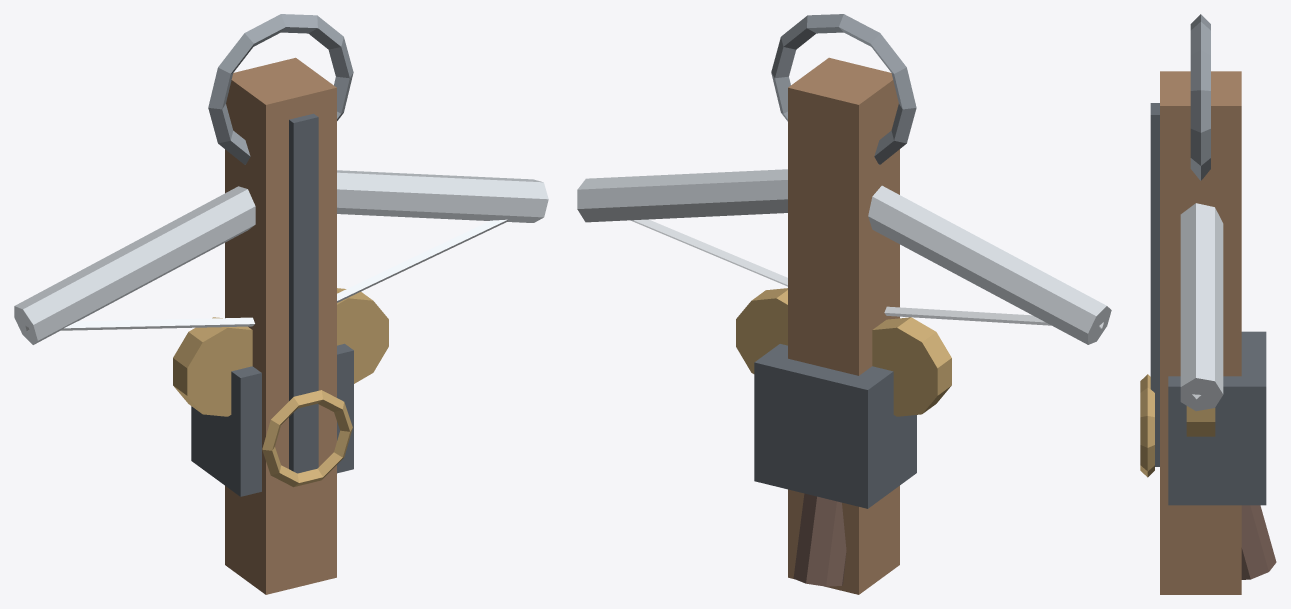
Rendered from two_handed_crossbow.glb.
3 renders of one model, left to right at view 1: azimuth 30°, elevation 25°; view 2: azimuth 150°, elevation 25°; view 3: azimuth 270°, elevation 25°, orthographic.
Visible parts, largest first — view 1: Stock.001, LeftLimb.001, BoltGroove.001, RightLimb.001, TriggerHousing.001, WindingGear_-1, FootStirrup.001, WindingGear_1, Trigger.001, StringLeft.004, StringRight.004; view 2: Stock.001, TriggerHousing.001, LeftLimb.001, RightLimb.001, WindingGear_-1, FootStirrup.001, PistolGrip.001, WindingGear_1, StringLeft.004, StringRight.004; view 3: Stock.001, TriggerHousing.001, RightLimb.001, FootStirrup.001, BoltGroove.001, PistolGrip.001, Trigger.001, WindingGear_1.
Part boxes in pixels (<box>): Stock.001: <box>225,57,336,594</box>; LeftLimb.001: <box>14,186,255,344</box>; BoltGroove.001: <box>289,113,318,473</box>; RightLimb.001: <box>337,170,548,222</box>; TriggerHousing.001: <box>191,343,353,496</box>; WindingGear_-1: <box>173,317,252,416</box>; FootStirrup.001: <box>208,14,353,164</box>; WindingGear_1: <box>337,288,388,383</box>; Trigger.001: <box>262,390,352,487</box>; StringLeft.004: <box>25,317,254,331</box>; StringRight.004: <box>337,219,507,302</box>; Stock.001: <box>788,57,899,594</box>; TriggerHousing.001: <box>754,344,916,508</box>; LeftLimb.001: <box>868,185,1111,344</box>; RightLimb.001: <box>577,169,787,222</box>; WindingGear_-1: <box>872,317,951,416</box>; FootStirrup.001: <box>771,14,916,164</box>; PistolGrip.001: <box>793,493,846,586</box>; WindingGear_1: <box>736,288,787,373</box>; StringLeft.004: <box>884,306,1103,328</box>; StringRight.004: <box>630,219,787,286</box>; Stock.001: <box>1160,71,1241,594</box>; TriggerHousing.001: <box>1168,331,1266,505</box>; RightLimb.001: <box>1180,203,1223,411</box>; FootStirrup.001: <box>1190,14,1210,180</box>; BoltGroove.001: <box>1150,103,1159,466</box>; PistolGrip.001: <box>1241,505,1276,579</box>; Trigger.001: <box>1140,374,1154,477</box>; WindingGear_1: <box>1186,406,1215,436</box>.
Size of the model in its own units: 1.47 by 1.5 by 0.333.
